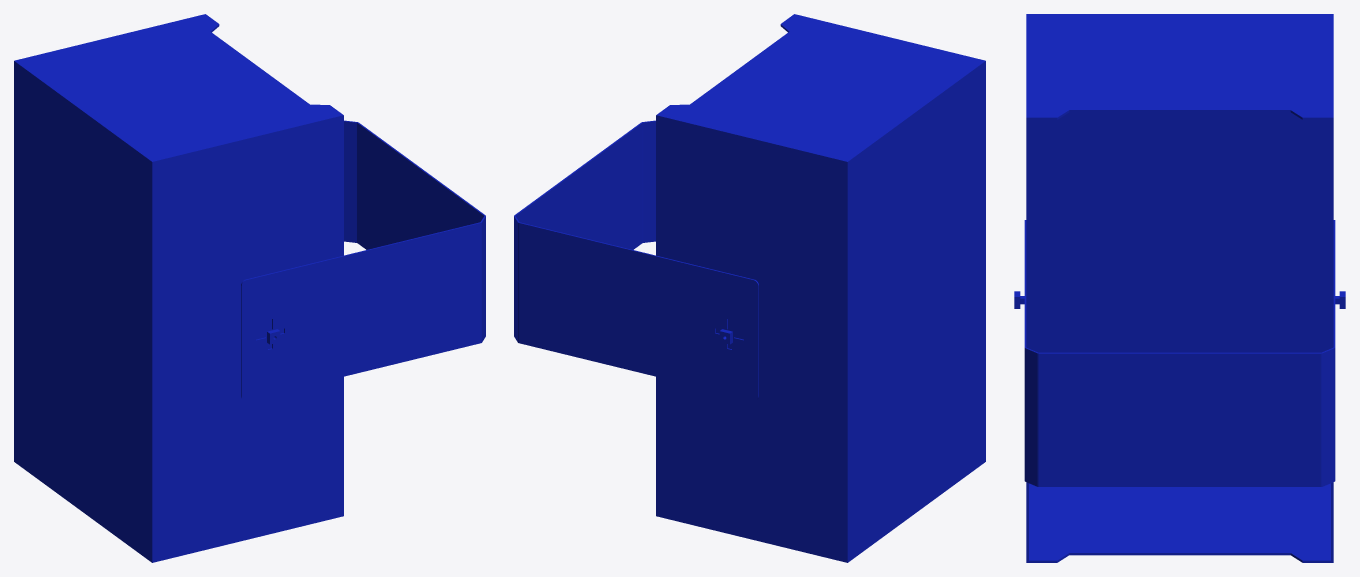
Rendered from blue_box.obj.
3 renders of one model, left to right at view 1: azimuth 30°, elevation 25°; view 2: azimuth 150°, elevation 25°; view 3: azimuth 270°, elevation 25°, orthographic. The views are drawn at different scales.
Parts seen in each view (by area): view 1: Base_Handle; view 2: Base_Handle; view 3: Base_Handle.
Boxes of the visible parts, x1=… form: Base_Handle: x1=14, y1=14, x2=485, y2=562; Base_Handle: x1=514, y1=14, x2=985, y2=562; Base_Handle: x1=1014, y1=14, x2=1345, y2=562.
Size of the model in its own units: 0.354 by 0.4 by 0.27.
